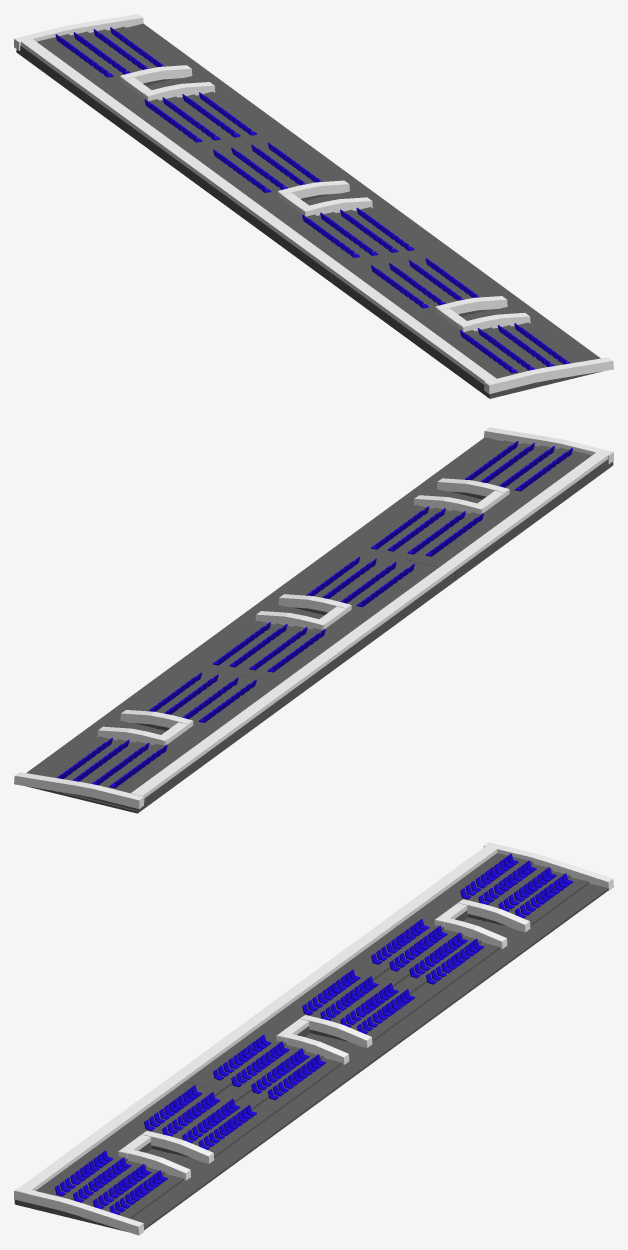
The model's file is BigAudienceSeats.fbx.
The picture shows the model from 3 angles, top to bottom: view 1: azimuth 30°, elevation 25°; view 2: azimuth 150°, elevation 25°; view 3: azimuth 330°, elevation 25°; orthographic projection.
Parts seen in each view (by area): view 1: 立方体.092; view 2: 立方体.092; view 3: 立方体.092.
Part boxes in pixels (x1,y1,x2,y2): 立方体.092: (14,14,613,398); 立方体.092: (14,427,613,813); 立方体.092: (14,842,613,1235).
Bounding box in the file's own units: 1093 × 150 × 7143.
